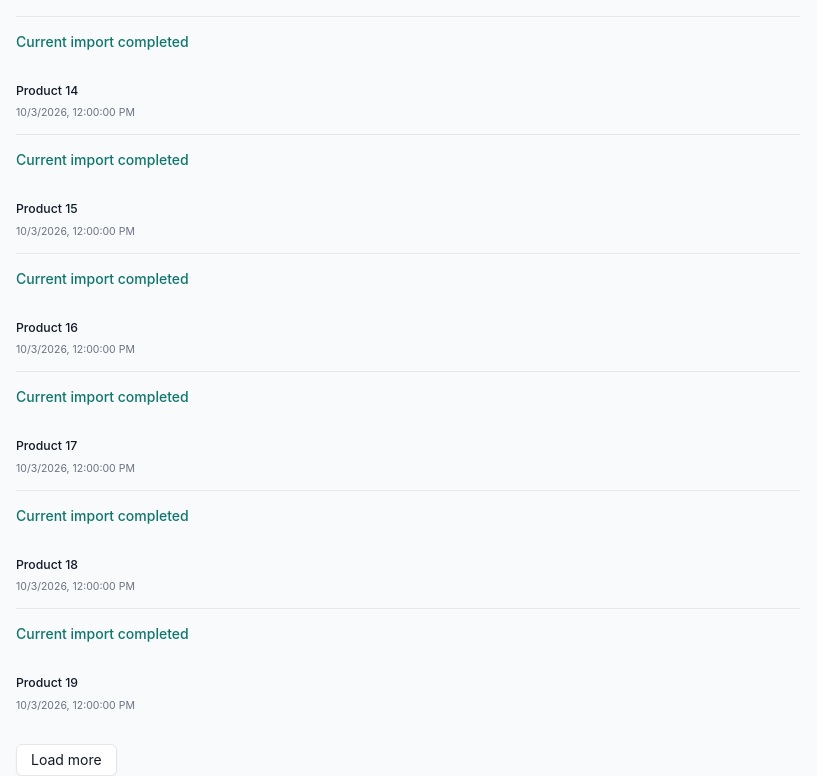
Scenario: loads older updates, retains them on failure, and retries the same cursor
(page scrolled)
Click the button "Load more": (66, 760) [16,744,117,775]
(page scrolled)
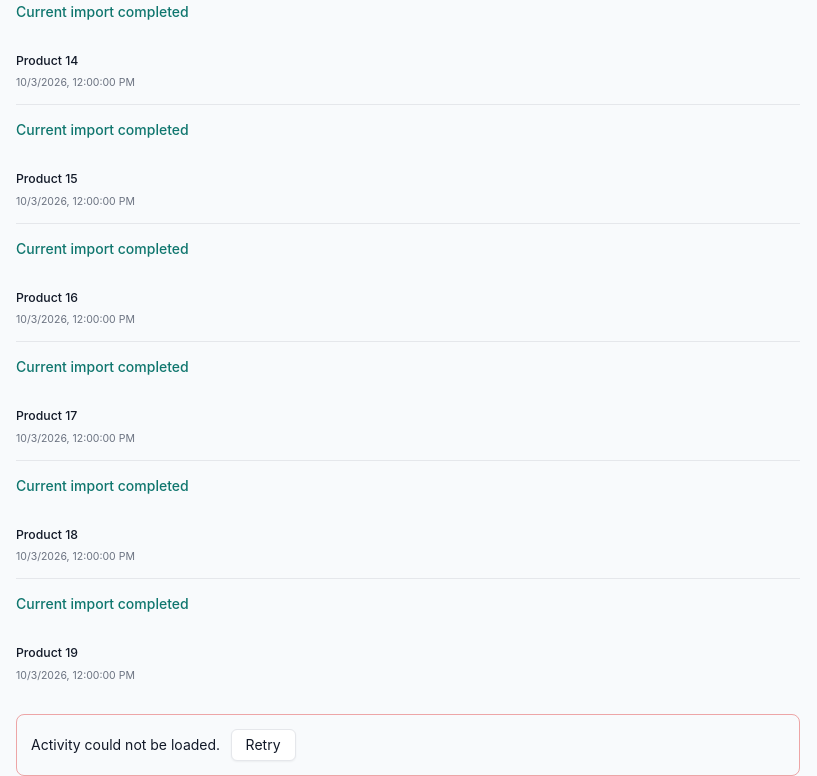
Expected: the message does not show "private data", [16,714,800,775]
Click the button "Retry": (263, 745) [231,729,296,761]
(page scrolled)
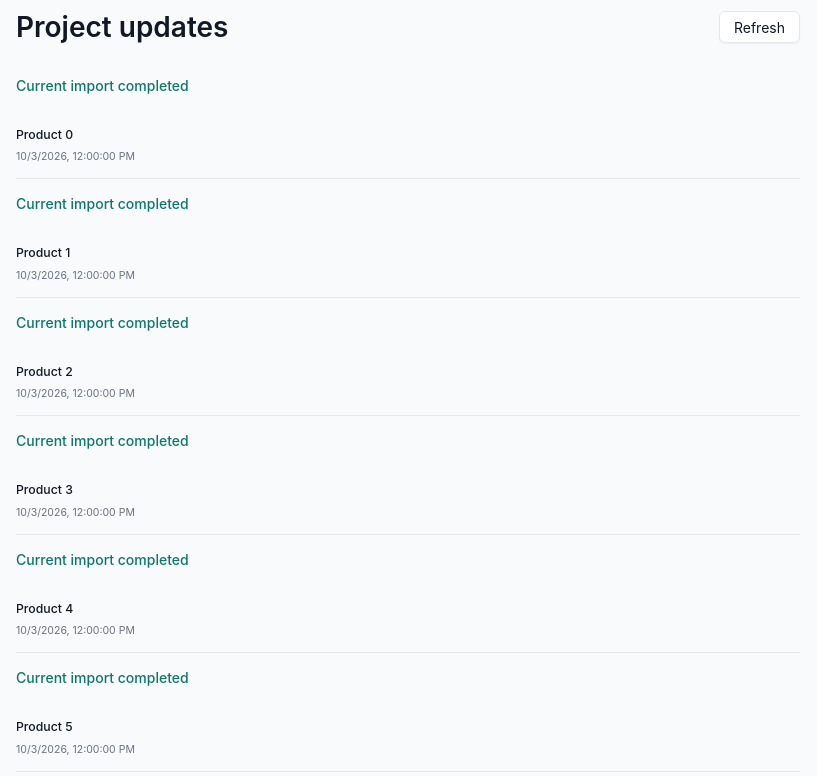
Expected: the button "Load more" is not shown
Expected: the number of list items is 22
